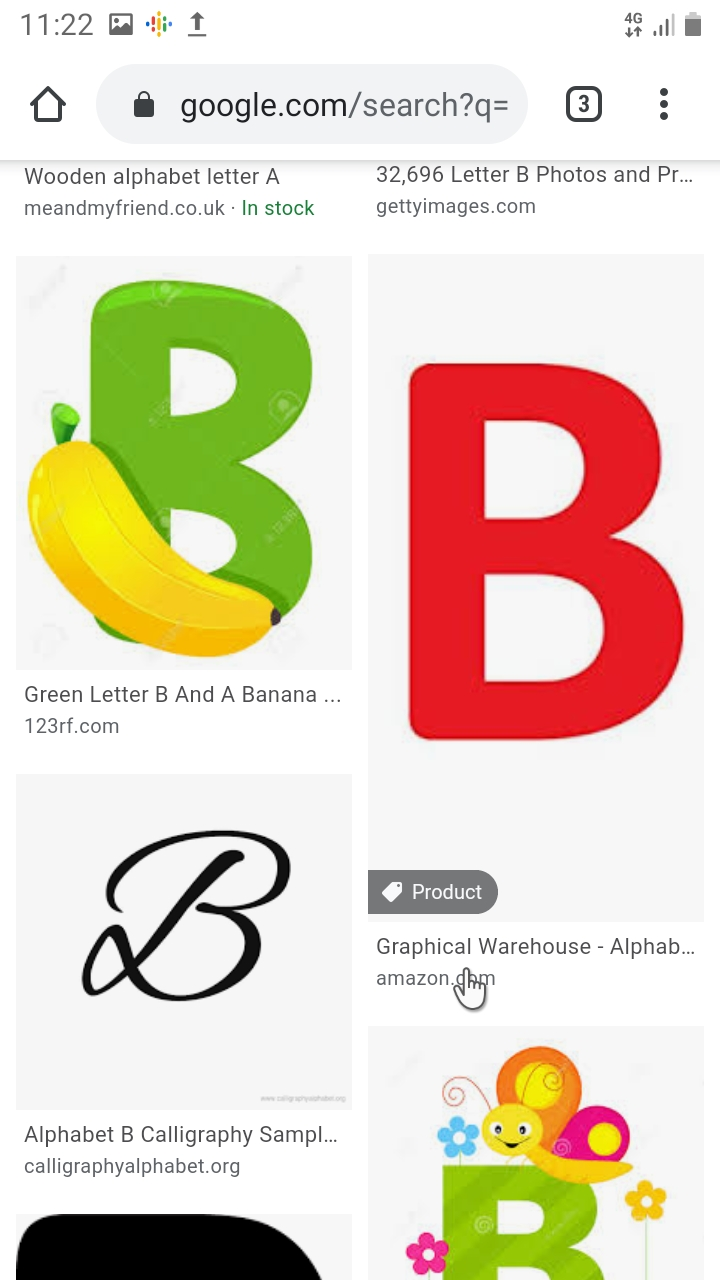zone B: (396, 347, 694, 804), (78, 265, 311, 657), (62, 819, 319, 1035)
